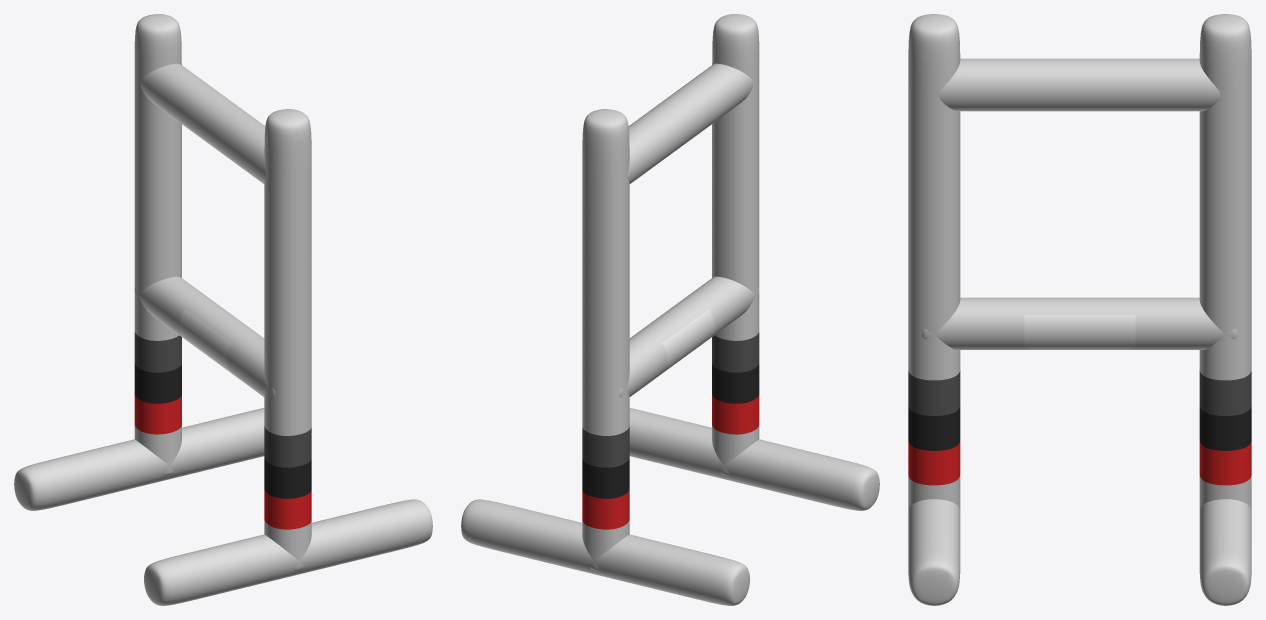
The model's file is double_pneumatic_gate.fbx.
3 views of the same model, side by side, from view 1: azimuth 30°, elevation 25°; view 2: azimuth 150°, elevation 25°; view 3: azimuth 270°, elevation 25° (orthographic). The views are drawn at different scales.
Parts seen in each view (by area): view 1: gate; view 2: gate; view 3: gate.
Part boxes in pixels (x1,y1,x2,y2): gate: [14, 14, 432, 605]; gate: [461, 14, 879, 605]; gate: [908, 14, 1251, 605].
Size of the model in its own units: 1462 by 2345 by 1414.
